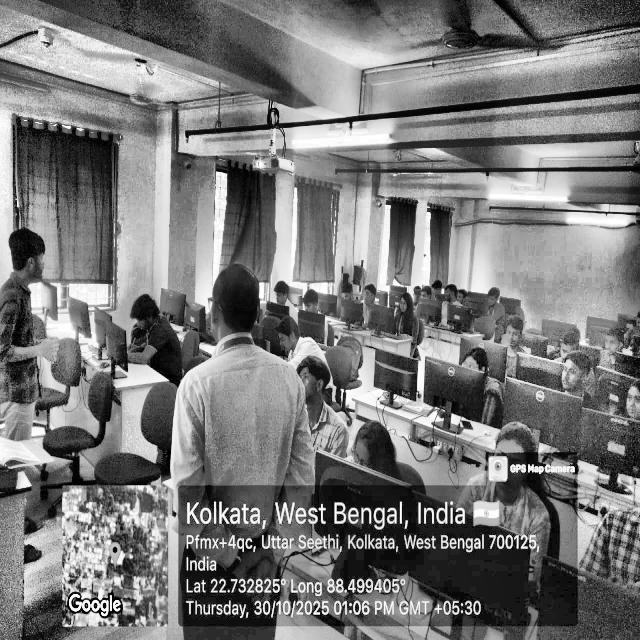Focus: (201, 253, 318, 409), (567, 334, 640, 451), (8, 207, 69, 297), (356, 414, 414, 500), (454, 328, 509, 414), (272, 275, 342, 336), (496, 418, 546, 500), (125, 294, 181, 349), (586, 315, 631, 370), (292, 353, 331, 398), (485, 280, 529, 314), (393, 291, 422, 335), (359, 279, 378, 333)
Not Focus: (446, 276, 470, 332)
